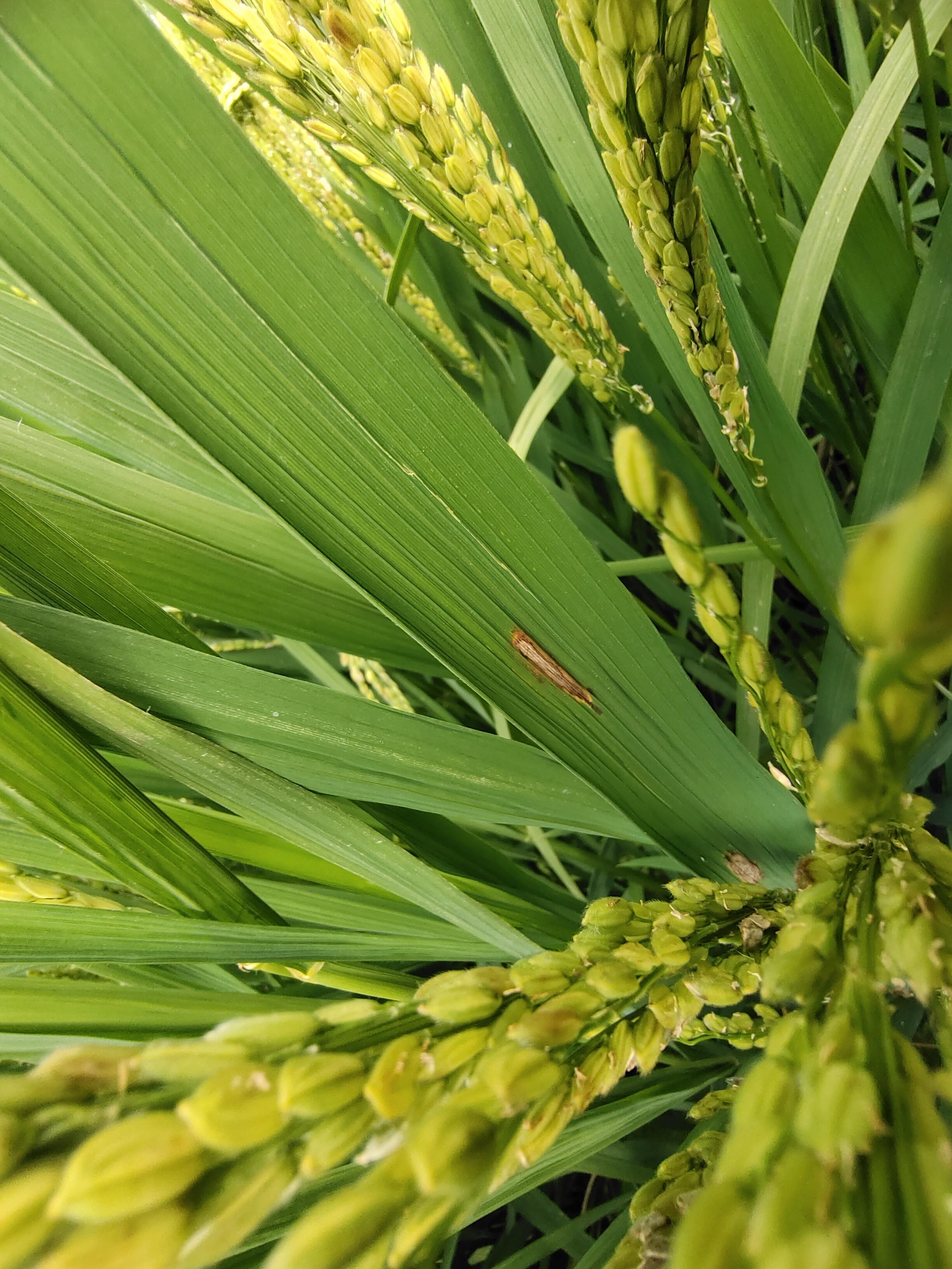LEAF BLAST: (511, 628, 600, 712), (725, 851, 764, 883)
